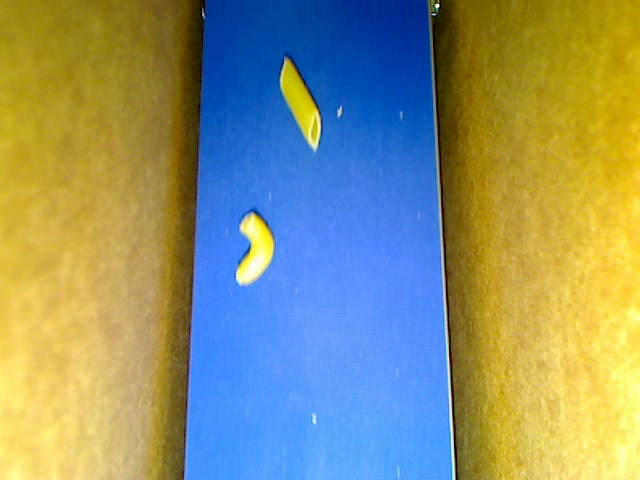elbow: (235, 212, 273, 285)
penne: (279, 55, 322, 151)
